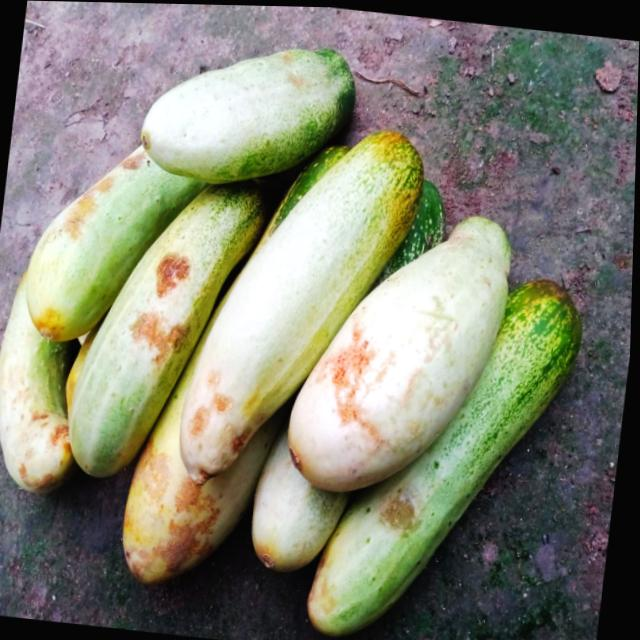Belly-Rot: (91, 440, 242, 594), (306, 322, 410, 450), (111, 243, 208, 368), (43, 137, 151, 244), (3, 394, 80, 501), (179, 361, 263, 459), (300, 548, 349, 620), (374, 484, 430, 541), (274, 46, 315, 92)
